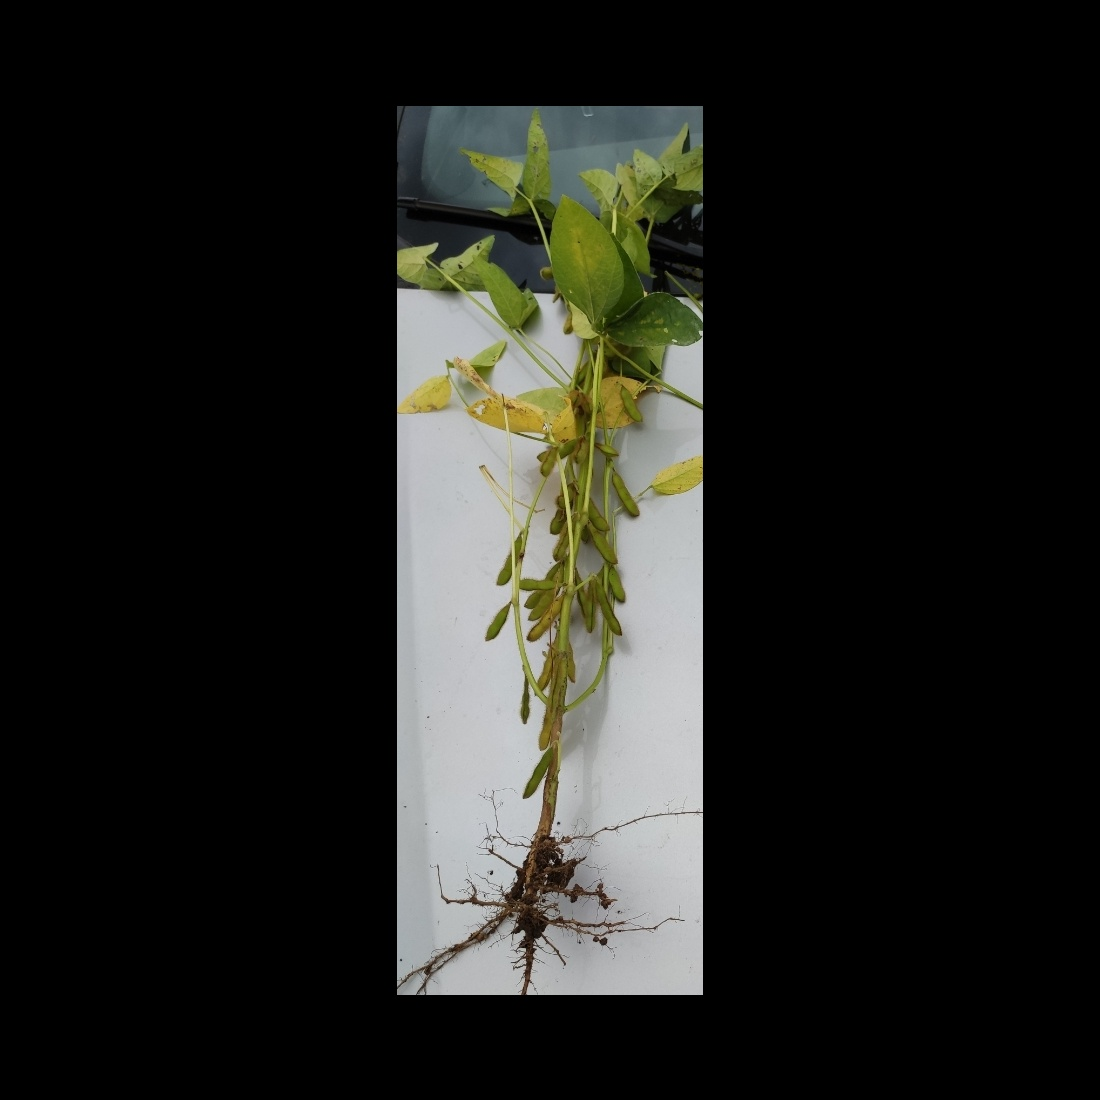pod: (526, 598, 566, 644), (522, 748, 556, 801), (594, 581, 623, 639), (495, 537, 521, 589), (484, 599, 514, 644), (588, 528, 620, 568), (618, 382, 646, 426), (612, 472, 638, 518), (610, 566, 627, 605)
soy: (445, 133, 674, 953)
